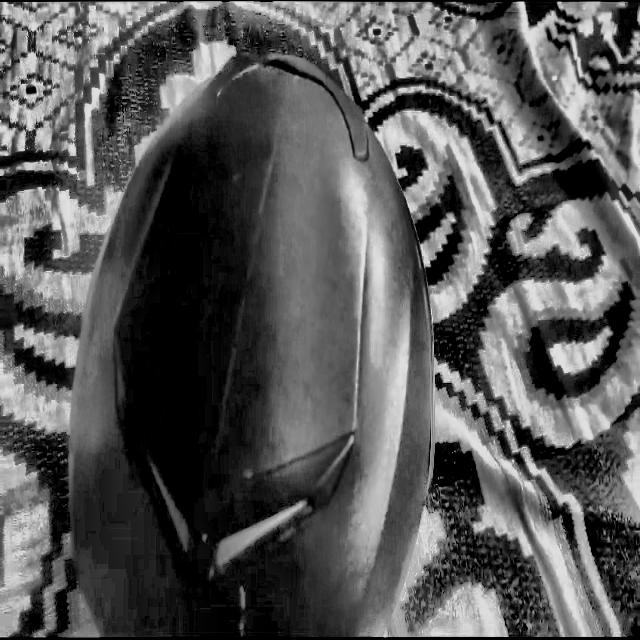Helmet: (65, 47, 442, 640)
